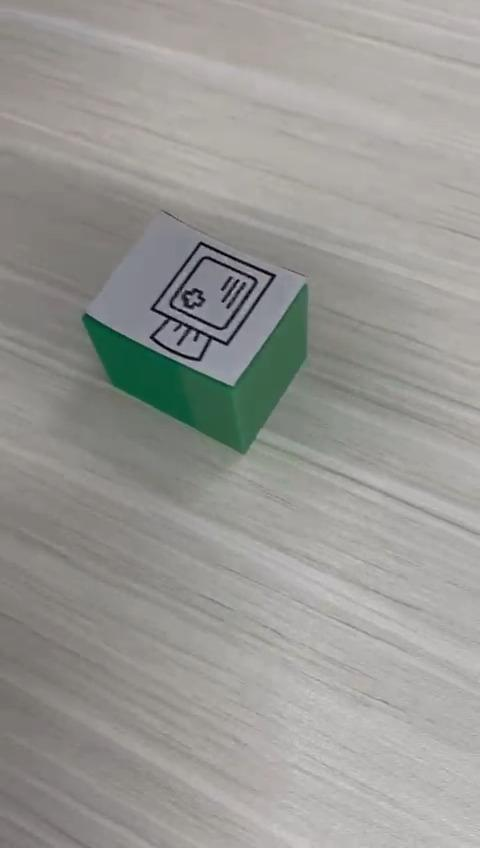Gauze: (81, 207, 310, 455)
